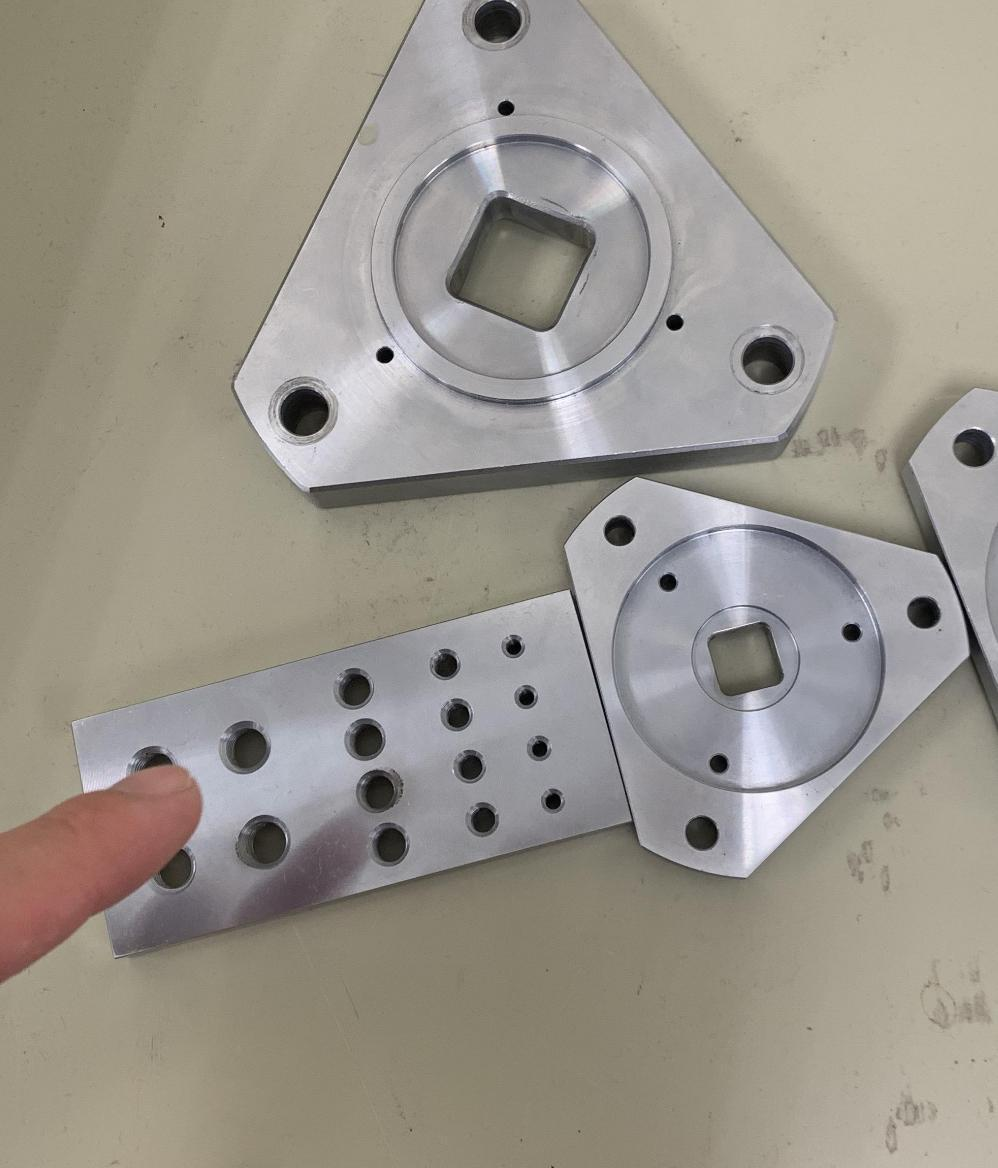hole: (730, 319, 809, 401), (266, 373, 348, 447), (452, 0, 539, 67), (226, 805, 300, 875), (213, 710, 281, 786), (362, 821, 418, 873), (943, 421, 998, 470), (338, 718, 390, 762), (324, 667, 378, 709), (904, 587, 946, 638), (354, 768, 400, 814), (682, 808, 724, 852), (463, 800, 505, 844), (449, 746, 493, 787), (596, 512, 642, 550), (433, 696, 477, 734), (424, 645, 464, 680), (493, 629, 529, 665), (512, 682, 542, 714), (650, 571, 682, 596), (540, 786, 568, 814), (705, 748, 731, 776), (526, 734, 552, 762), (840, 622, 864, 645)
